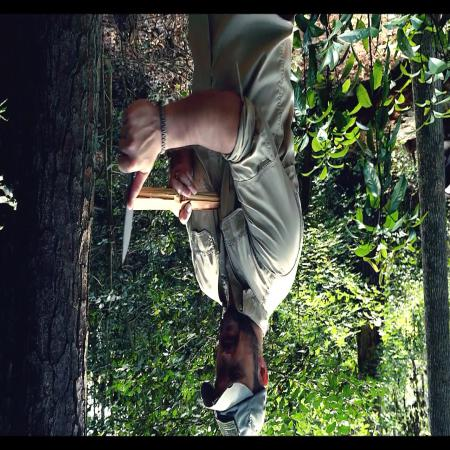long weapon: (113, 128, 159, 270)
